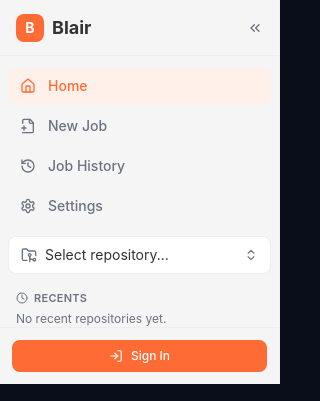
Test: Sidebar › collapses to 60px and hides labels when the collapse button is clicked
This screenshot has width=320, height=401.
Click the button named "collapse sidebar".
click(255, 28)  # box [247, 20, 263, 36]
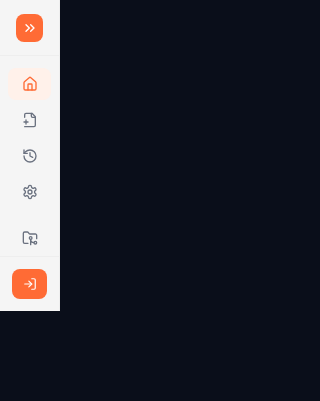
Check: the link "Home" is gone
